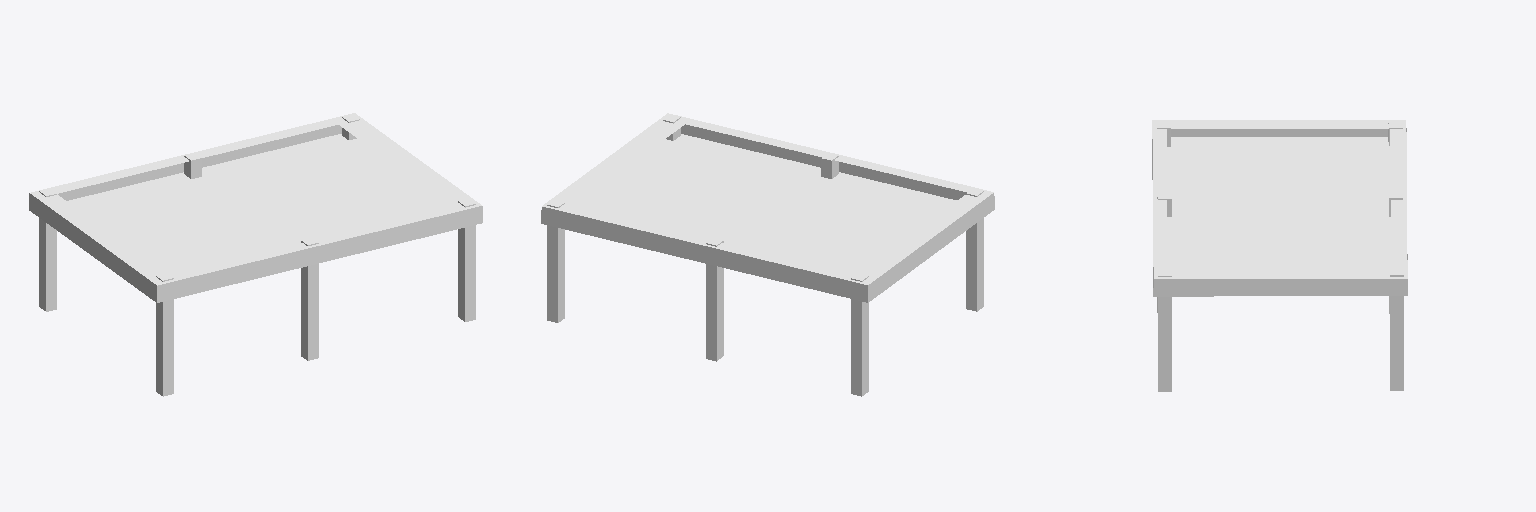
The model's file is HutBottom.obj.
The picture shows the model from 3 angles: view 1: azimuth 30°, elevation 25°; view 2: azimuth 150°, elevation 25°; view 3: azimuth 270°, elevation 25°; orthographic projection.
Visible parts, largest first — view 1: house.001_house.003; view 2: house.001_house.003; view 3: house.001_house.003.
Part boxes in pixels (x1,y1,x2,y2): house.001_house.003: (29, 113, 482, 396); house.001_house.003: (541, 113, 994, 396); house.001_house.003: (1152, 120, 1407, 391).
Size of the model in its own units: 30.76 by 10.41 by 20.82.